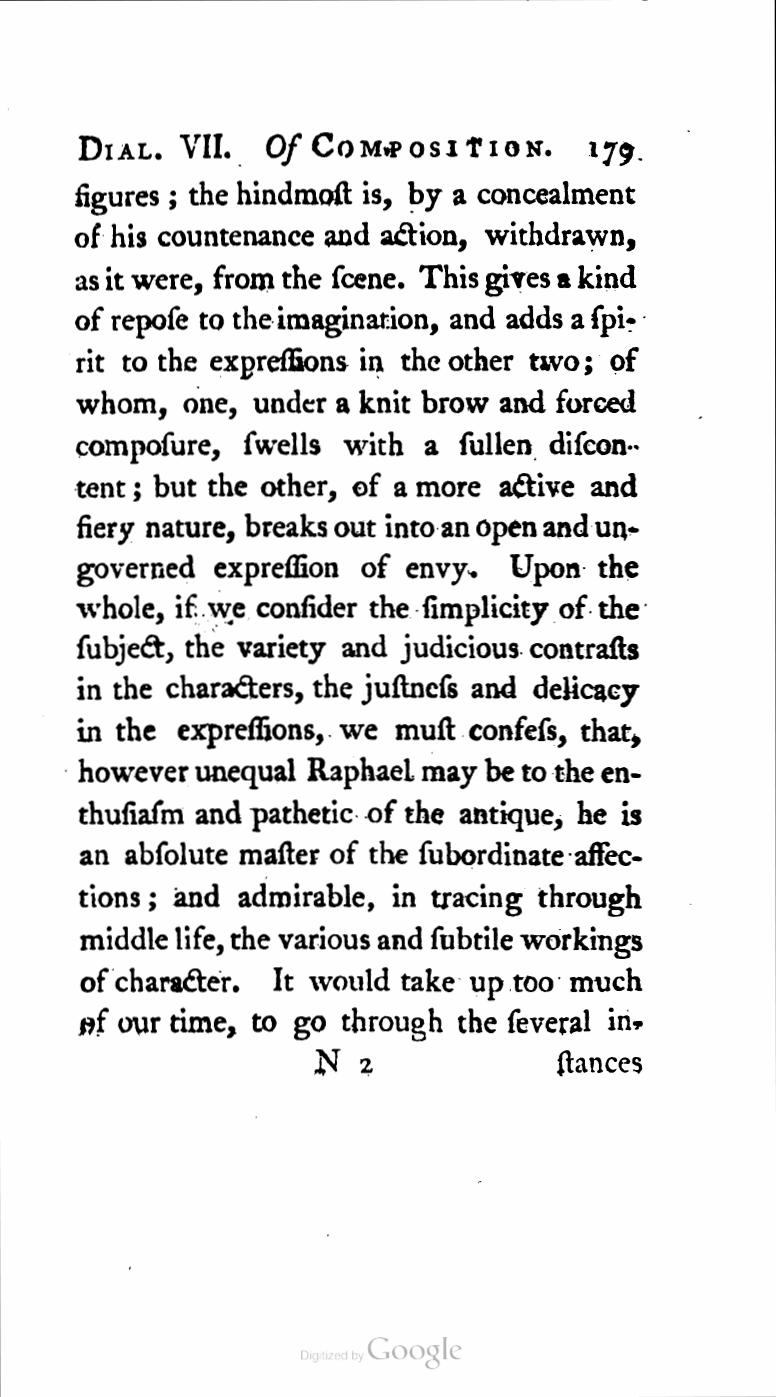catchword: (548, 1044, 652, 1084)
header: (66, 124, 562, 168)
page_num: (586, 132, 642, 174)
signature: (300, 1038, 382, 1088)
top_p: (70, 176, 648, 1036)
